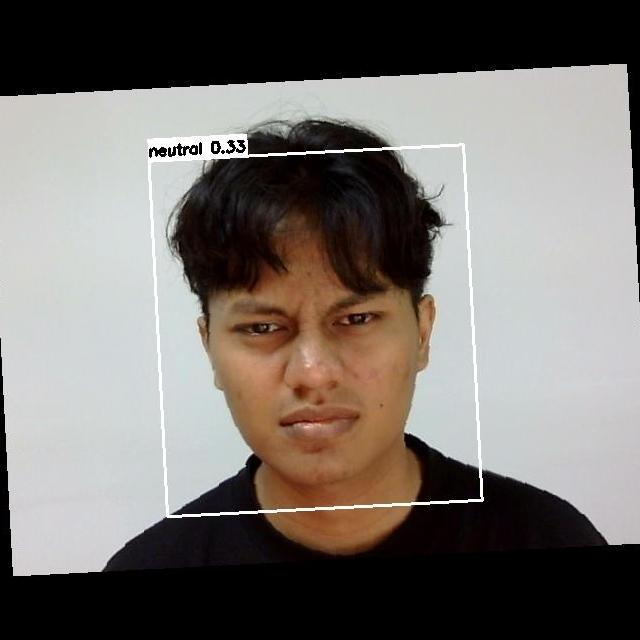Angry: (197, 270, 432, 454)
